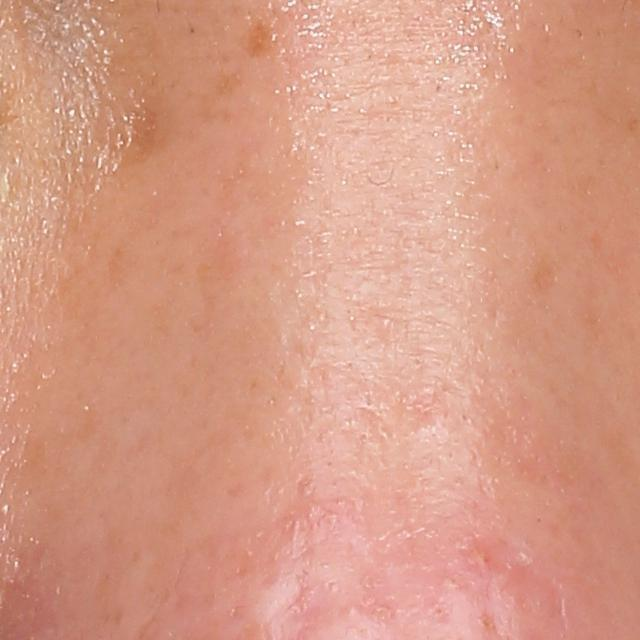melasma: (236, 14, 283, 61)
other: (102, 102, 158, 169)
